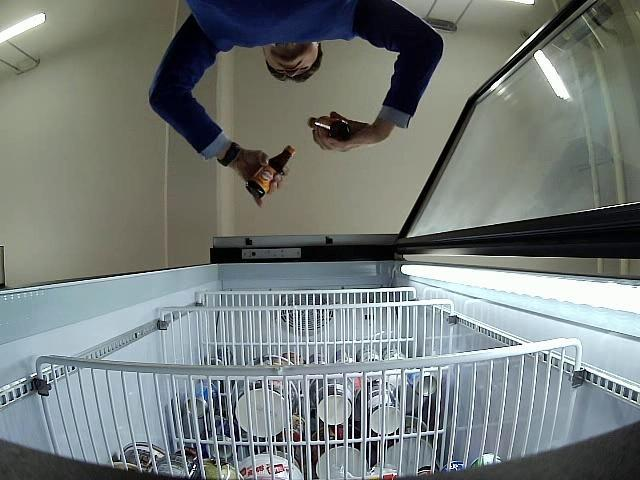17_vita500: (246, 146, 295, 198), (306, 115, 352, 145)
